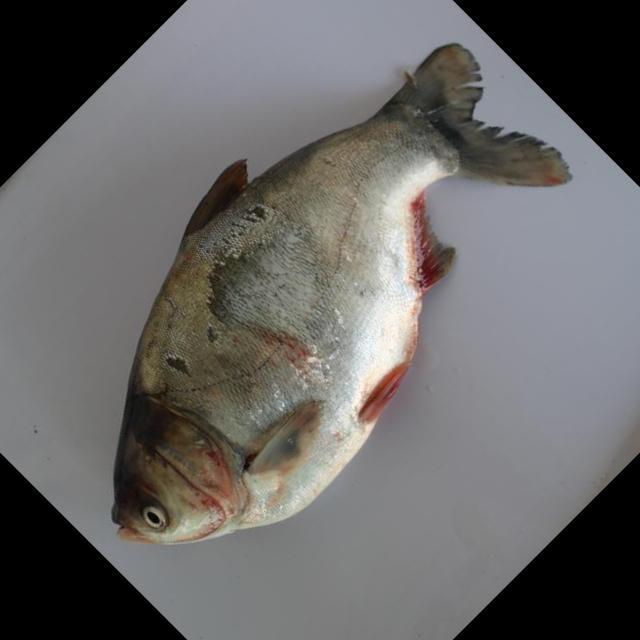SilverCarp: (112, 42, 557, 536)
